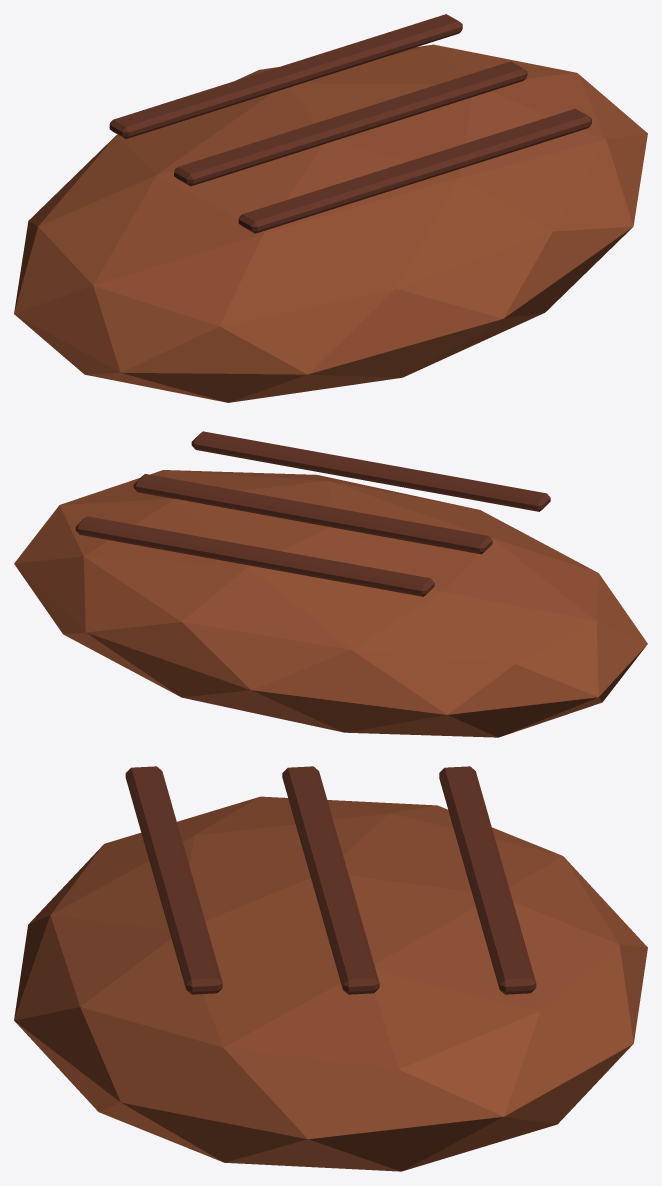
The model's file is FTF_Ingredient_FriedBeef.glb.
3 views of the same model, one above another, from view 1: azimuth 30°, elevation 25°; view 2: azimuth 150°, elevation 25°; view 3: azimuth 270°, elevation 25° (orthographic). The views are drawn at different scales.
Visible parts, largest first — view 1: FTF_Ingredient_FriedBeef_StaticMesh; view 2: FTF_Ingredient_FriedBeef_StaticMesh; view 3: FTF_Ingredient_FriedBeef_StaticMesh.
Part boxes in pixels (x1,y1,x2,y2): FTF_Ingredient_FriedBeef_StaticMesh: (14, 14, 647, 402); FTF_Ingredient_FriedBeef_StaticMesh: (14, 431, 647, 737); FTF_Ingredient_FriedBeef_StaticMesh: (14, 766, 647, 1171).
Size of the model in its own units: 0.9348 by 0.2773 by 0.6877.
